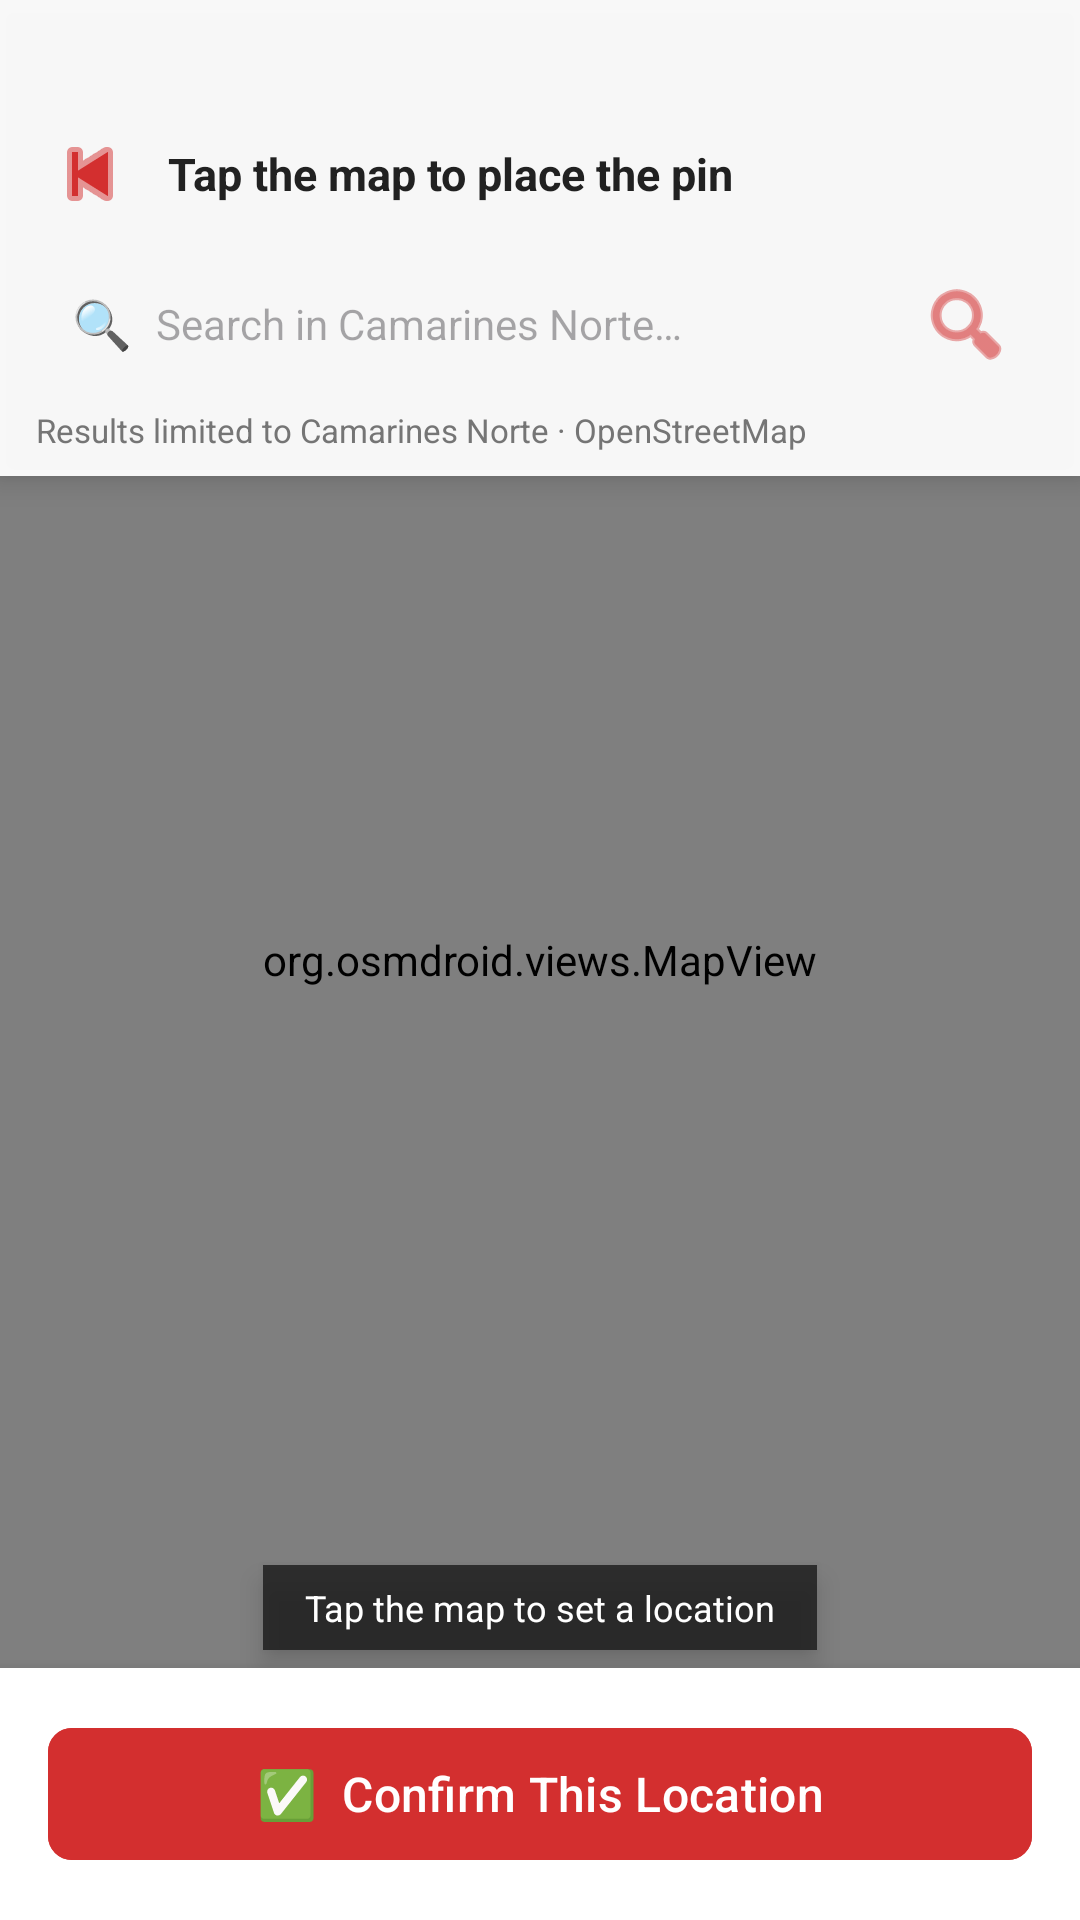

Icons on this 1080w x 1920h Android screen, each with its box as (x1, y1, x2, y2):
Back: (67, 147, 113, 201)
